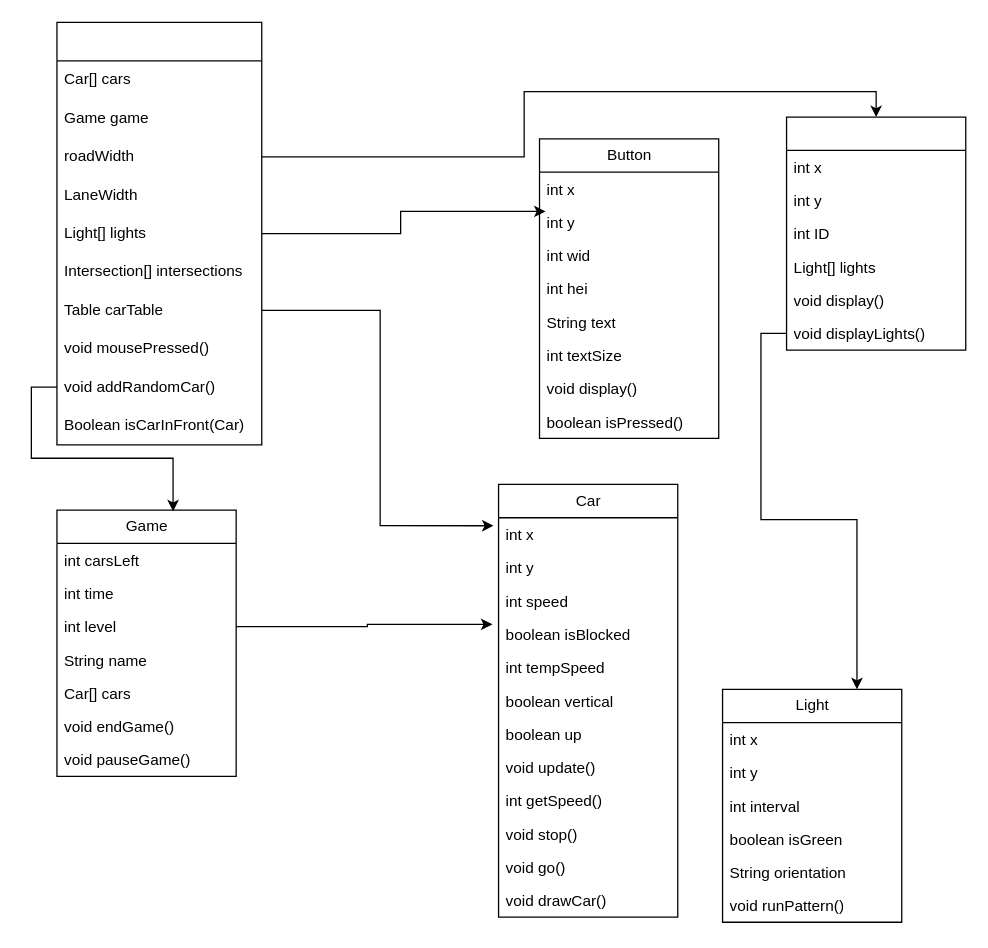
Some shapes in this 988 by 948 pixel diagram are drawn without their labels. Here are the shapes that lost their labels. From the top down, the box of each, then its label:
(56, 21, 262, 445): TrafficSim
(785, 116, 966, 350): Intersection
